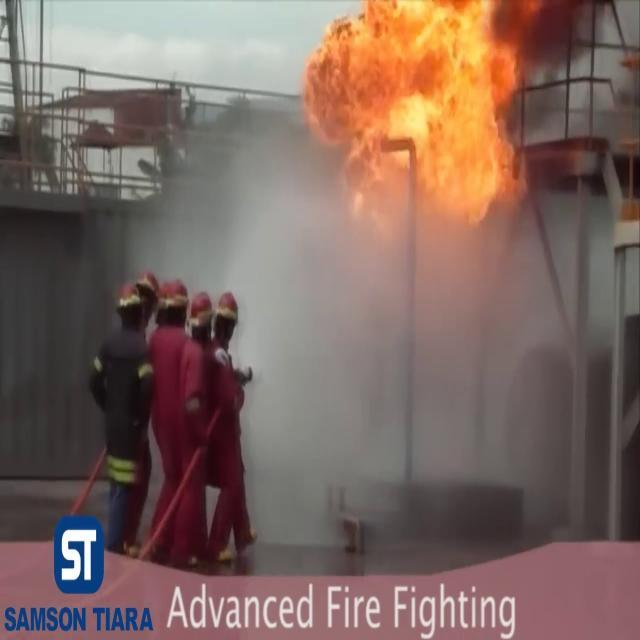Fire: (297, 0, 536, 228)
